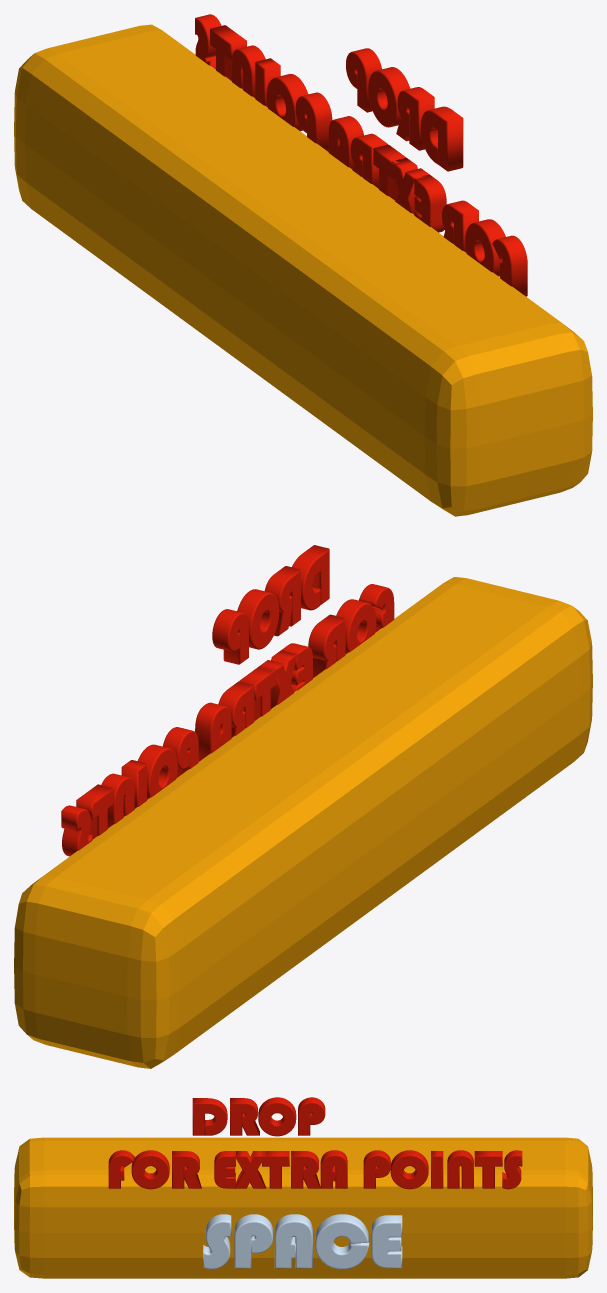
File: pressSpace2.fbx
3 views of the same model, one above another, from view 1: azimuth 30°, elevation 25°; view 2: azimuth 150°, elevation 25°; view 3: azimuth 270°, elevation 25° (orthographic). The views are drawn at different scales.
Parts seen in each view (by area): view 1: Cube, Text; view 2: Cube, Text; view 3: Cube, Text, Text.001.
Boxes of the visible parts, <box> form: Cube: <box>14,24,592,516</box>; Text: <box>195,14,527,296</box>; Cube: <box>14,577,592,1068</box>; Text: <box>61,545,394,856</box>; Cube: <box>14,1137,592,1278</box>; Text: <box>108,1097,522,1189</box>; Text.001: <box>203,1214,402,1269</box>.
Size of the model in its own units: 234 by 345 by 992.
